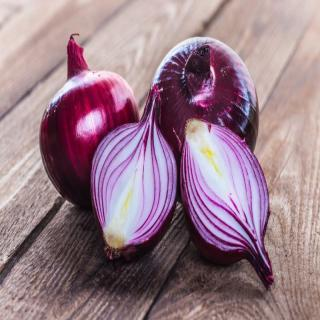Bawang Merah: (40, 34, 141, 209), (180, 118, 275, 292), (90, 86, 179, 263)
